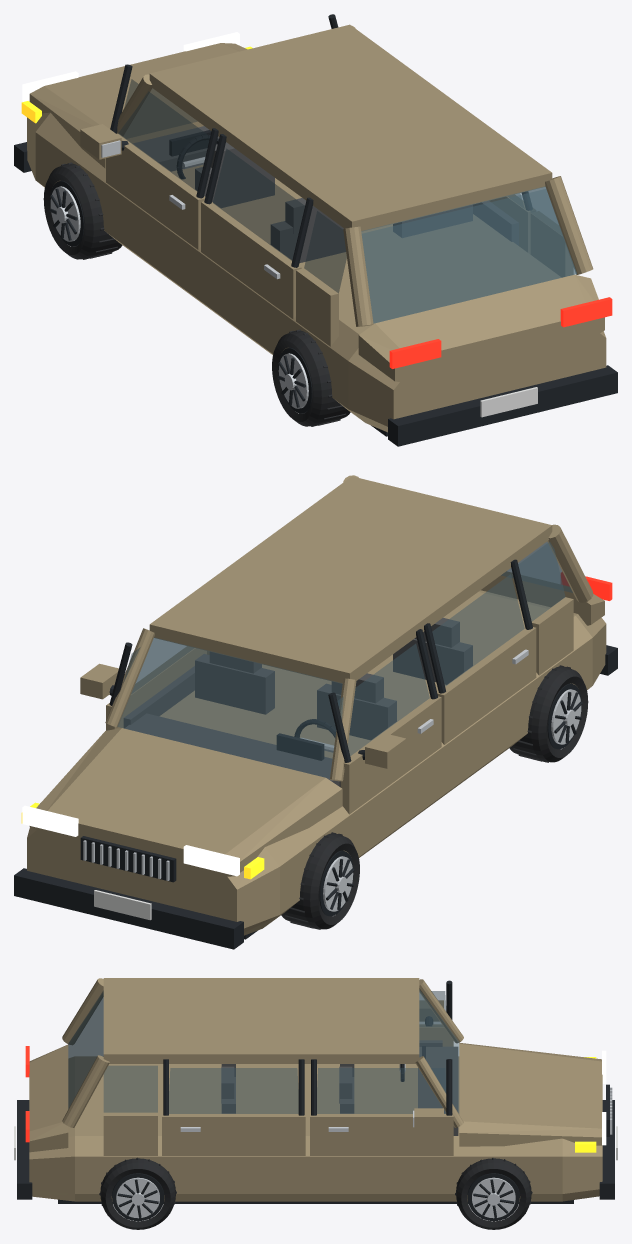
Rendered from wagon.glb.
3 renders of one model, top to bottom at view 1: azimuth 30°, elevation 25°; view 2: azimuth 150°, elevation 25°; view 3: azimuth 270°, elevation 25°, orthographic. The views are drawn at different scales.
Parts seen in each view (by area): view 1: Body, Door_Hatch, Door_FL, Door_RL, Wheel_FL, Wheel_RL, Door_RR; view 2: Body, Door_RL, Door_FL, Door_FR, Wheel_RL, Wheel_FL, Door_Hatch; view 3: Body, Door_RR, Door_FR, Wheel_RR, Wheel_FR, Door_Hatch, Door_FL.
Part boxes in pixels (x1=…): Body: x1=14, y1=24, x2=617, y2=446; Door_Hatch: x1=362, y1=189, x2=576, y2=322; Door_FL: x1=80, y1=64, x2=218, y2=249; Door_RL: x1=201, y1=134, x2=313, y2=318; Wheel_FL: x1=43, y1=162, x2=122, y2=259; Wheel_RL: x1=272, y1=329, x2=350, y2=426; Door_RR: x1=473, y1=191, x2=530, y2=253; Body: x1=14, y1=475, x2=617, y2=949; Door_RL: x1=424, y1=559, x2=536, y2=744; Door_FL: x1=328, y1=629, x2=441, y2=814; Door_FR: x1=80, y1=638, x2=206, y2=730; Wheel_RL: x1=509, y1=665, x2=588, y2=762; Wheel_FL: x1=281, y1=832, x2=359, y2=929; Door_Hatch: x1=501, y1=542, x2=572, y2=592; Body: x1=14, y1=978, x2=617, y2=1203; Door_RR: x1=162, y1=1059, x2=305, y2=1155; Door_FR: x1=310, y1=1059, x2=453, y2=1155; Wheel_RR: x1=99, y1=1157, x2=176, y2=1229; Wheel_FR: x1=455, y1=1158, x2=532, y2=1229; Door_Hatch: x1=68, y1=993, x2=103, y2=1107; Door_FL: x1=419, y1=980, x2=453, y2=1046.
Size of what is drawn, in the model's own units: 2.34 by 1.54 by 5.11.
